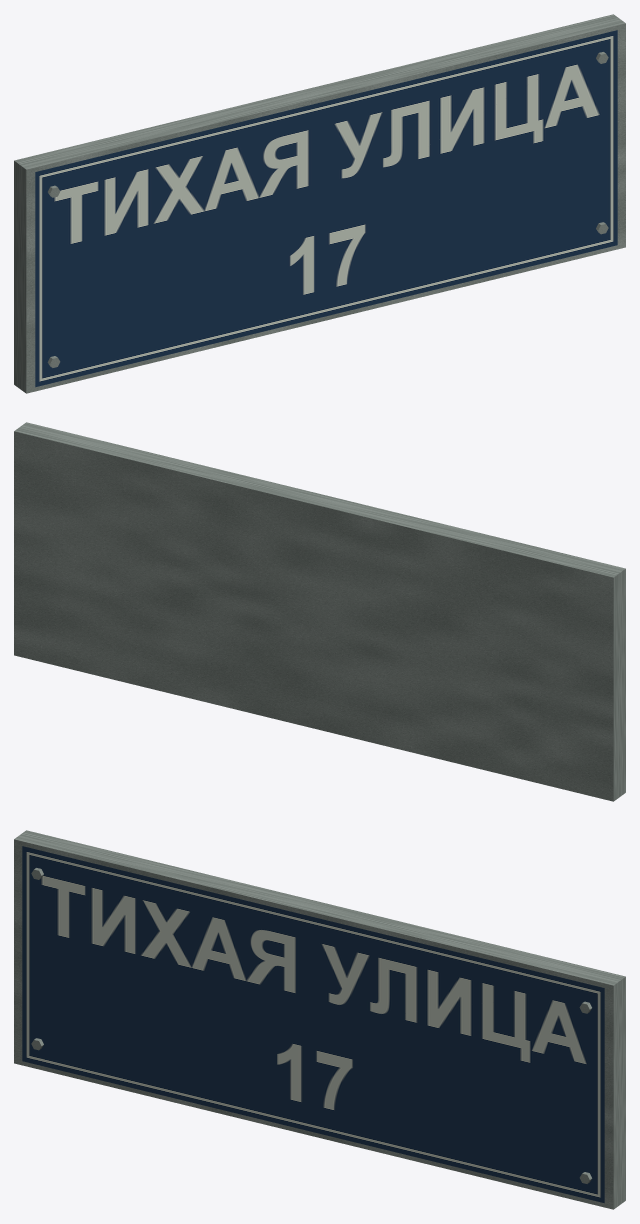
File: CIS_EntrySign.obj
3 renders of one model, top to bottom at view 1: azimuth 30°, elevation 25°; view 2: azimuth 150°, elevation 25°; view 3: azimuth 330°, elevation 25°, orthographic.
Visible parts, largest first — view 1: CIS_EntrySign; view 2: CIS_EntrySign; view 3: CIS_EntrySign.
Part boxes in pixels (x1=…): CIS_EntrySign: x1=14, y1=14, x2=625, y2=393; CIS_EntrySign: x1=14, y1=422, x2=625, y2=801; CIS_EntrySign: x1=14, y1=830, x2=625, y2=1209.
Size of the model in its own units: 0.7 by 0.25 by 0.0315.
2 materials, 2 textured.
